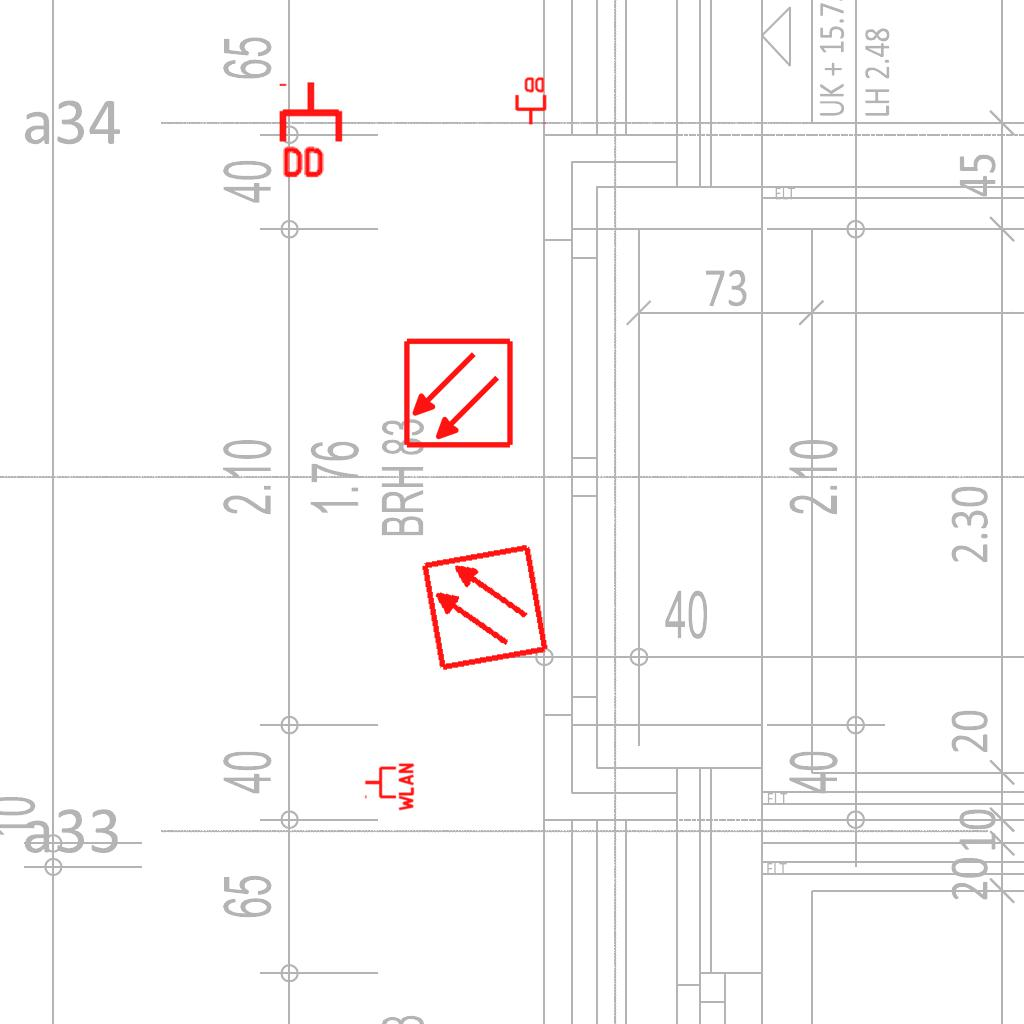Datenanschluss_zweifach: (278, 79, 347, 182), (513, 75, 547, 126)
RMO_Rauchmelder_optischer: (419, 542, 550, 673), (402, 337, 515, 450)
WLAN: (363, 761, 415, 813)
